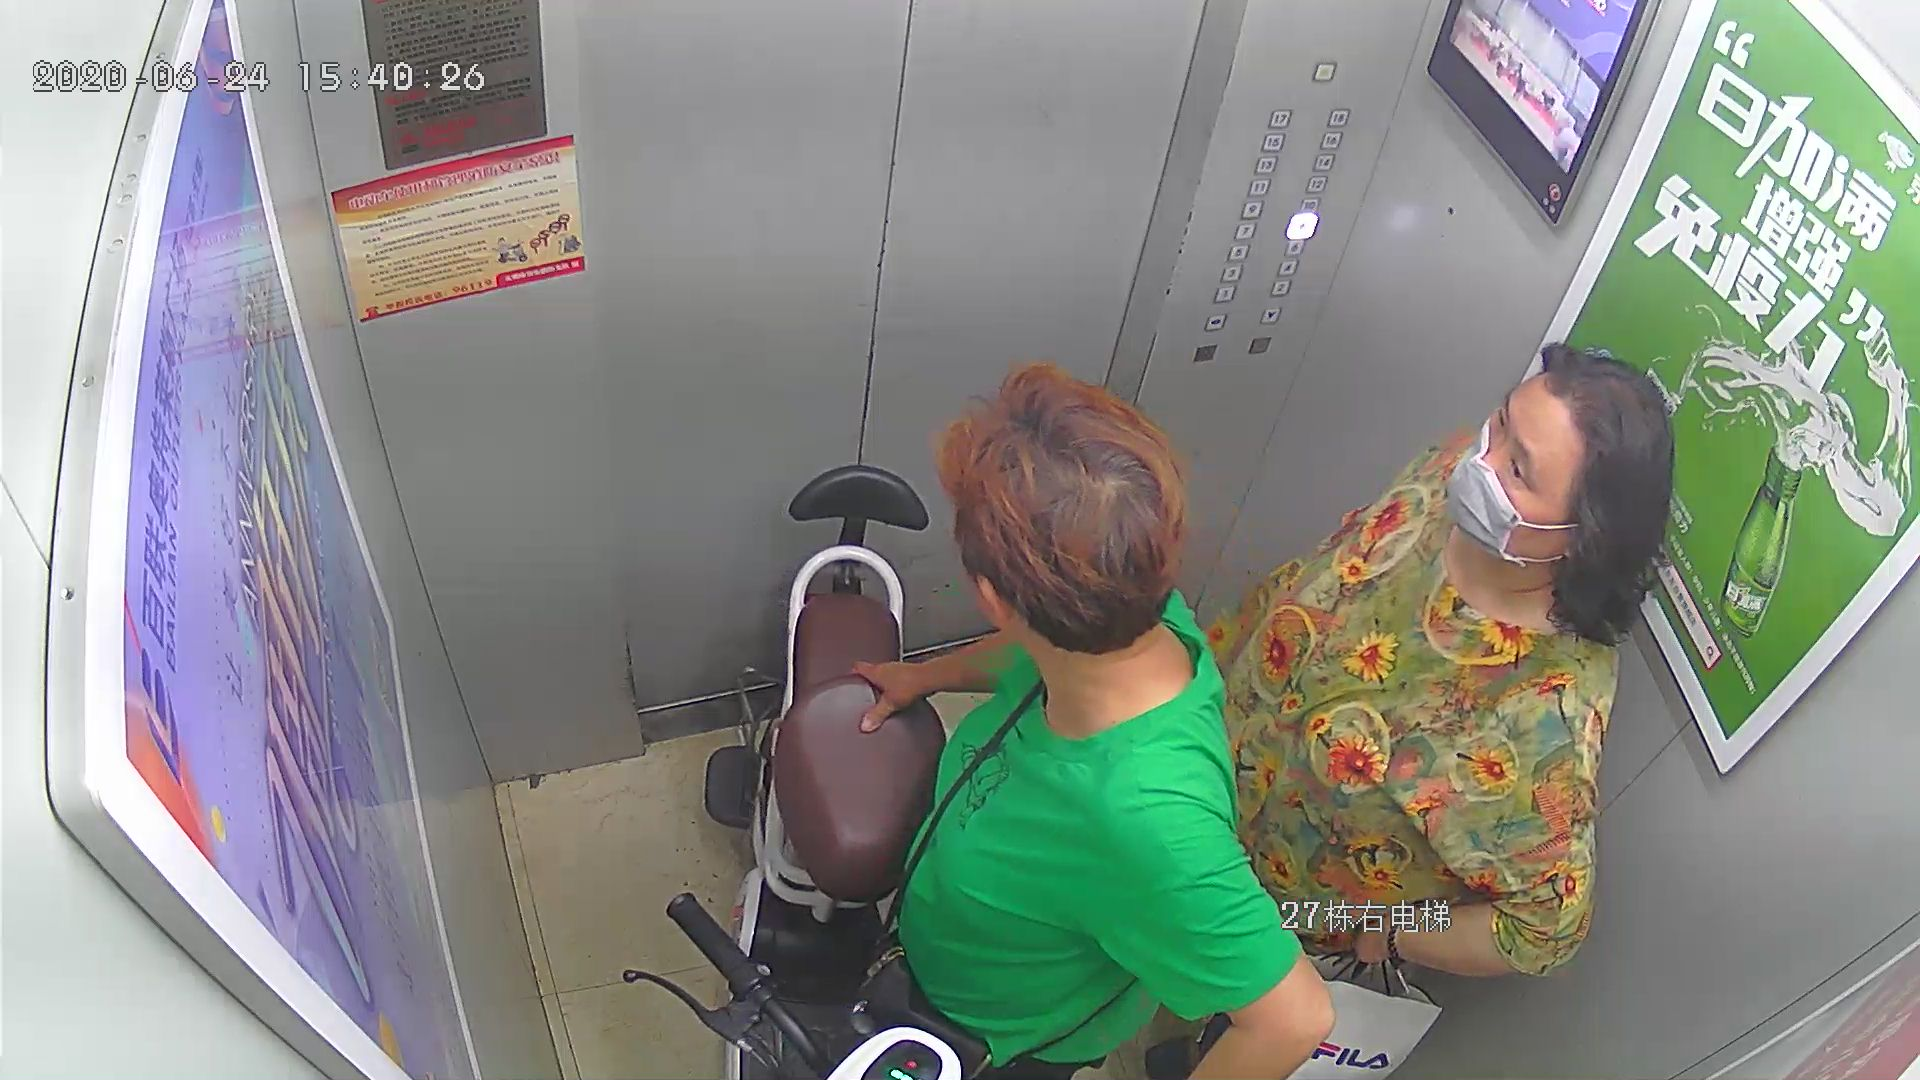Electric-bicycle: (657, 458, 986, 1080)
